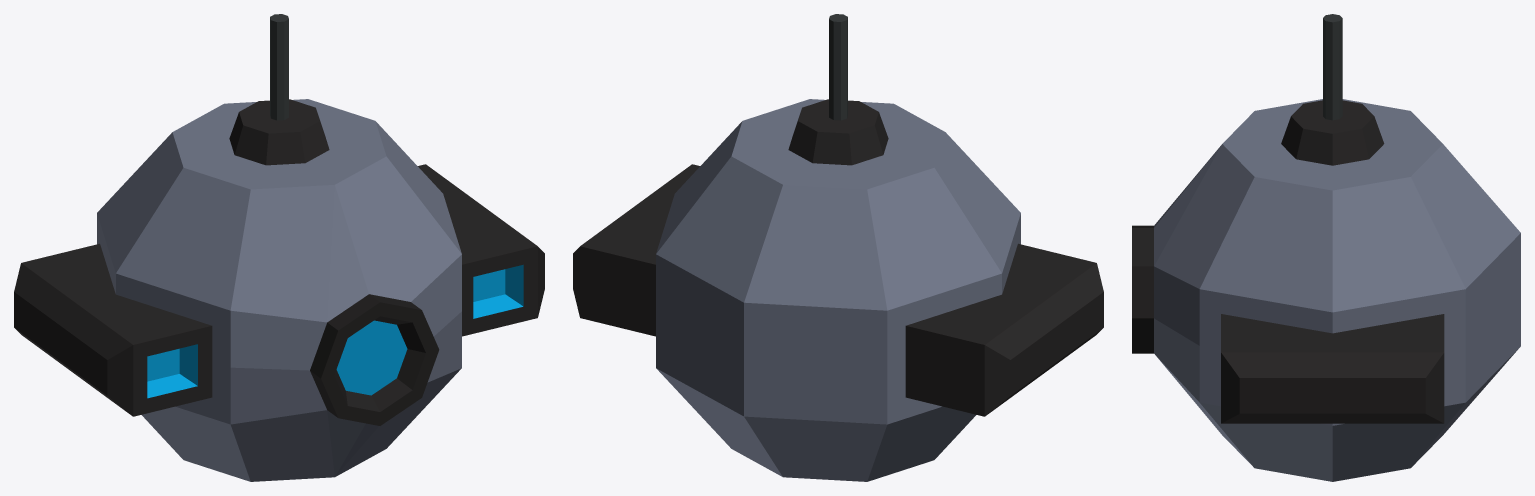
File: MassProductionDrone.fbx
3 views of the same model, side by side, from view 1: azimuth 30°, elevation 25°; view 2: azimuth 150°, elevation 25°; view 3: azimuth 270°, elevation 25° (orthographic).
Visible parts, largest first — view 1: MassProductionDrone; view 2: MassProductionDrone; view 3: MassProductionDrone.
Boxes of the visible parts, x1=… form: MassProductionDrone: x1=14, y1=14, x2=544, y2=481; MassProductionDrone: x1=573, y1=14, x2=1103, y2=481; MassProductionDrone: x1=1132, y1=14, x2=1520, y2=481.
Bounding box in the file's own units: 323 × 295 × 249.
